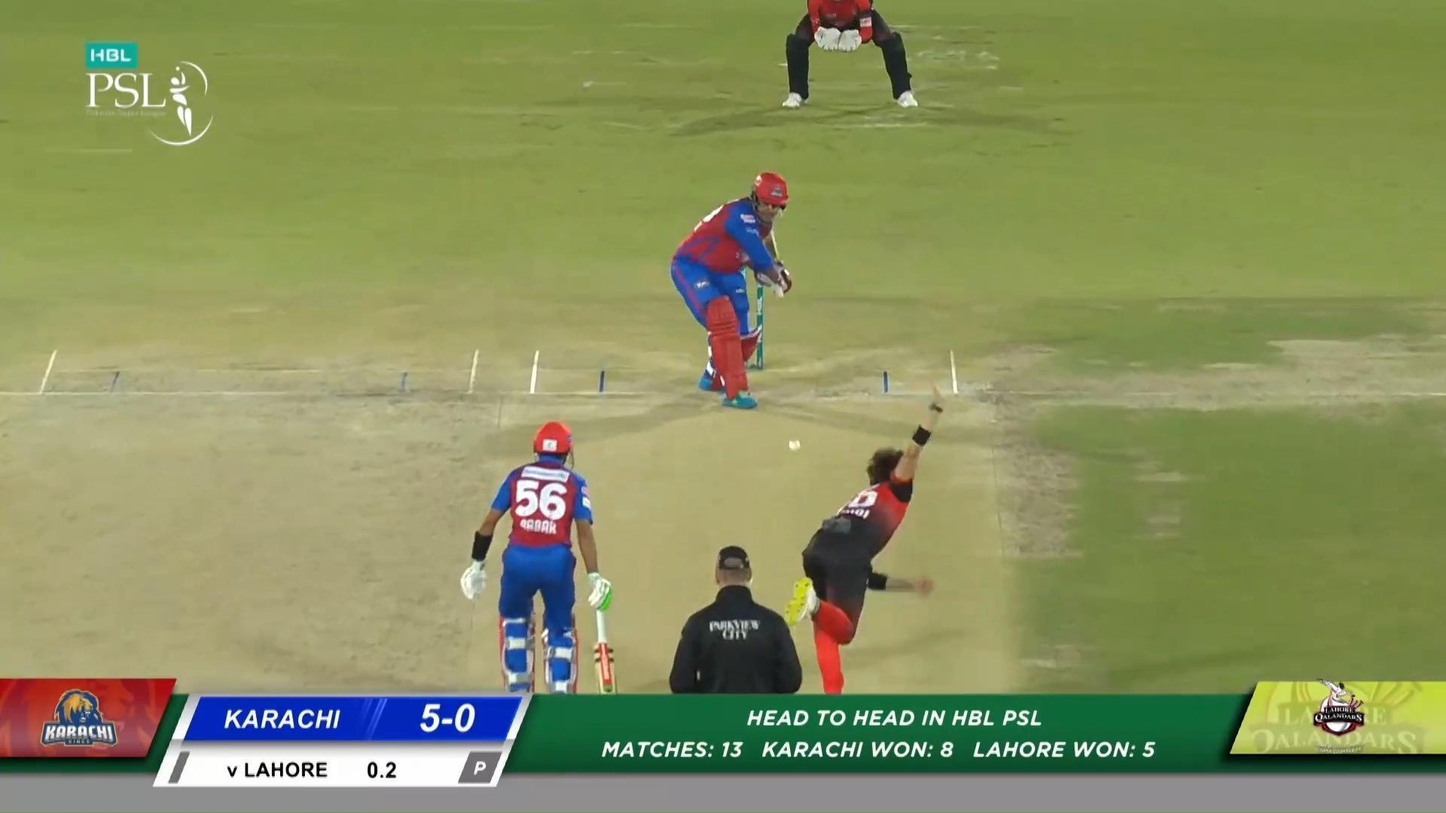BM 1: (668, 169, 794, 412)
BO: (782, 374, 950, 724)
